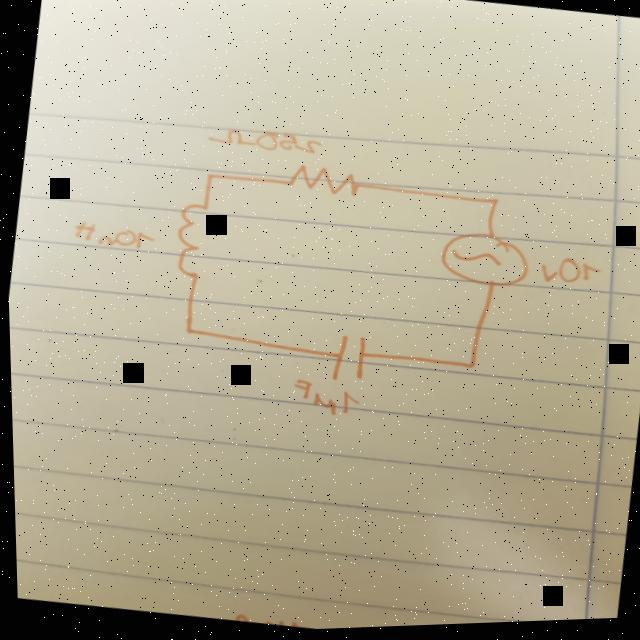capacitor: (323, 331, 370, 396)
inductor: (163, 202, 219, 284)
junction: (170, 321, 202, 346), (456, 359, 486, 384), (477, 192, 506, 216), (199, 169, 224, 188)
resistor: (274, 161, 366, 206)
source: (433, 231, 533, 300)
text: (206, 120, 328, 168), (64, 216, 153, 261), (530, 253, 608, 300), (289, 377, 360, 424)
